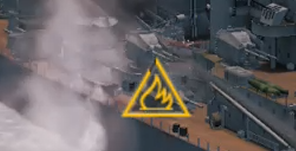1fire: (120, 84, 193, 121)
